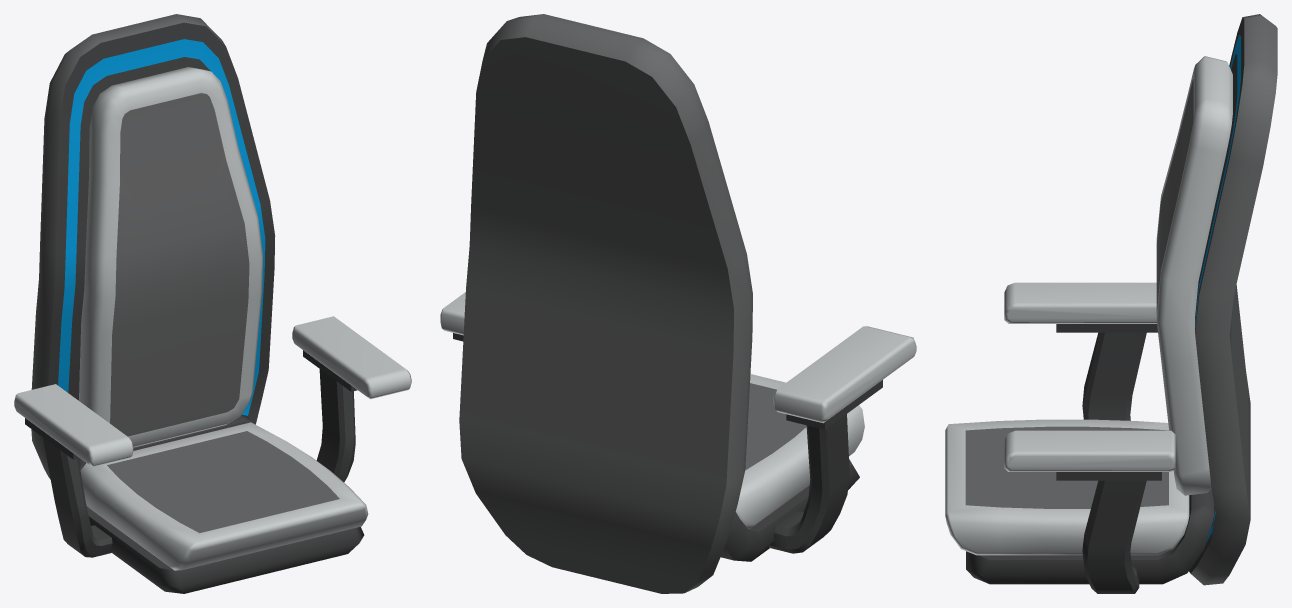
File: Armchair_003.fbx
3 views of the same model, side by side, from view 1: azimuth 30°, elevation 25°; view 2: azimuth 150°, elevation 25°; view 3: azimuth 270°, elevation 25° (orthographic). The views are drawn at different scales.
Visible parts, largest first — view 1: Armchair_003; view 2: Armchair_003; view 3: Armchair_003.
Boxes of the visible parts, x1,y1,x2,y2 form: Armchair_003: (14,14,411,593); Armchair_003: (440,14,916,593); Armchair_003: (945,14,1277,593).
Size of the model in its own units: 90.47 by 73.96 by 127.
